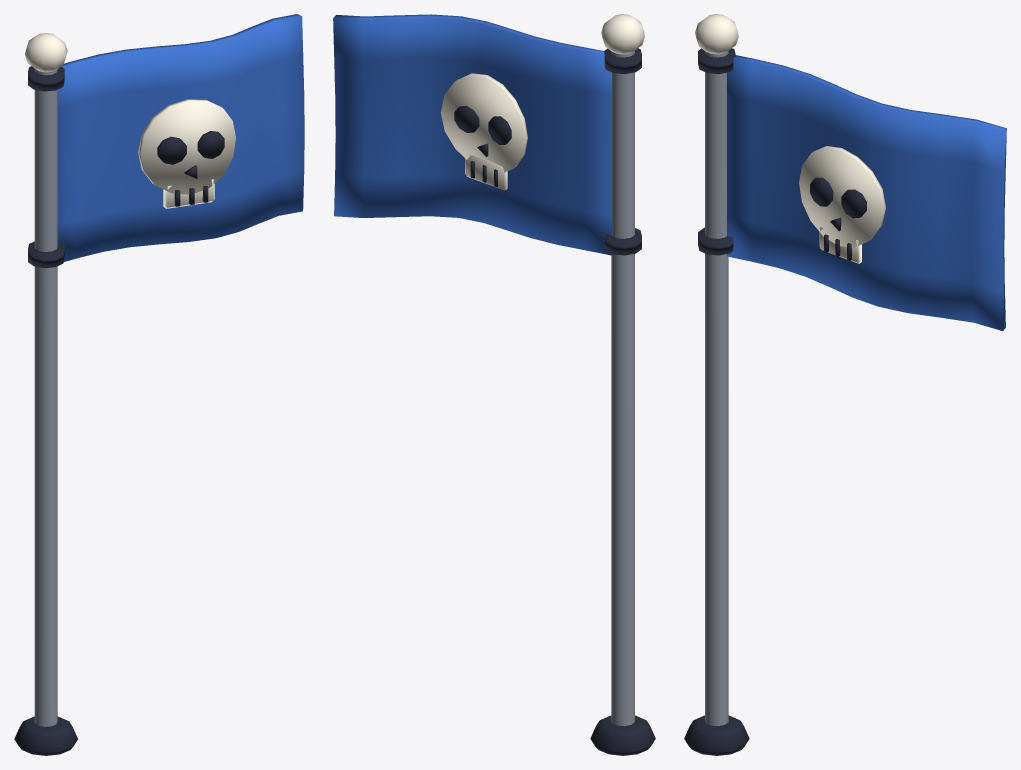
The model's file is Flag.fbx.
The picture shows the model from 3 angles, left to right: view 1: azimuth 30°, elevation 25°; view 2: azimuth 150°, elevation 25°; view 3: azimuth 330°, elevation 25°; orthographic projection. The views are drawn at different scales.
Parts seen in each view (by area): view 1: Cloth, Pole; view 2: Cloth, Pole; view 3: Cloth, Pole.
Part boxes in pixels (x1,y1,x2,y2): Cloth: [57, 14, 304, 261]; Pole: [14, 33, 77, 755]; Cloth: [333, 14, 611, 255]; Pole: [590, 14, 655, 755]; Cloth: [727, 55, 1006, 330]; Pole: [684, 14, 749, 755].
Bounding box in the file's own units: 0.6999 × 1.61 × 0.1361.
